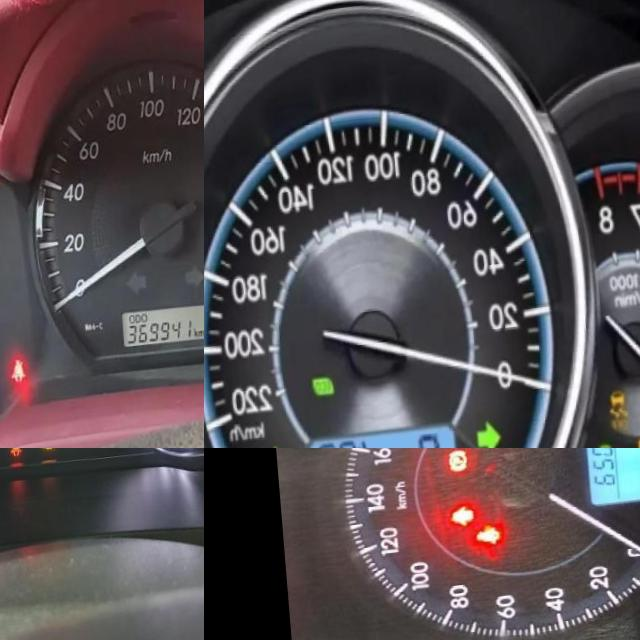Seat Belt: (467, 531, 495, 553), (3, 359, 18, 386)
